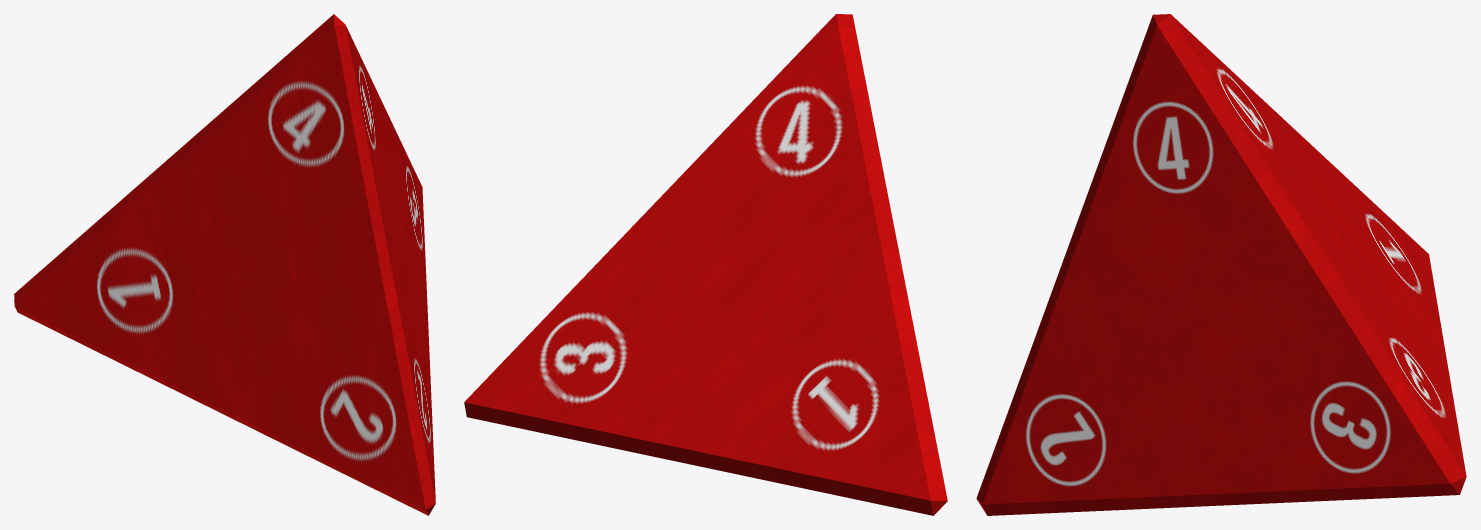
Rendered from dado_d4.obj.
3 views of the same model, side by side, from view 1: azimuth 30°, elevation 25°; view 2: azimuth 150°, elevation 25°; view 3: azimuth 270°, elevation 25° (orthographic). The views are drawn at different scales.
Parts seen in each view (by area): view 1: pCone17; view 2: pCone17; view 3: pCone17.
Boxes of the visible parts, box(x1,y1,x2,y2) form: pCone17: box(14, 14, 435, 515); pCone17: box(464, 14, 947, 515); pCone17: box(976, 14, 1466, 515).
Size of the model in its own units: 13.46 by 13.44 by 12.06.
